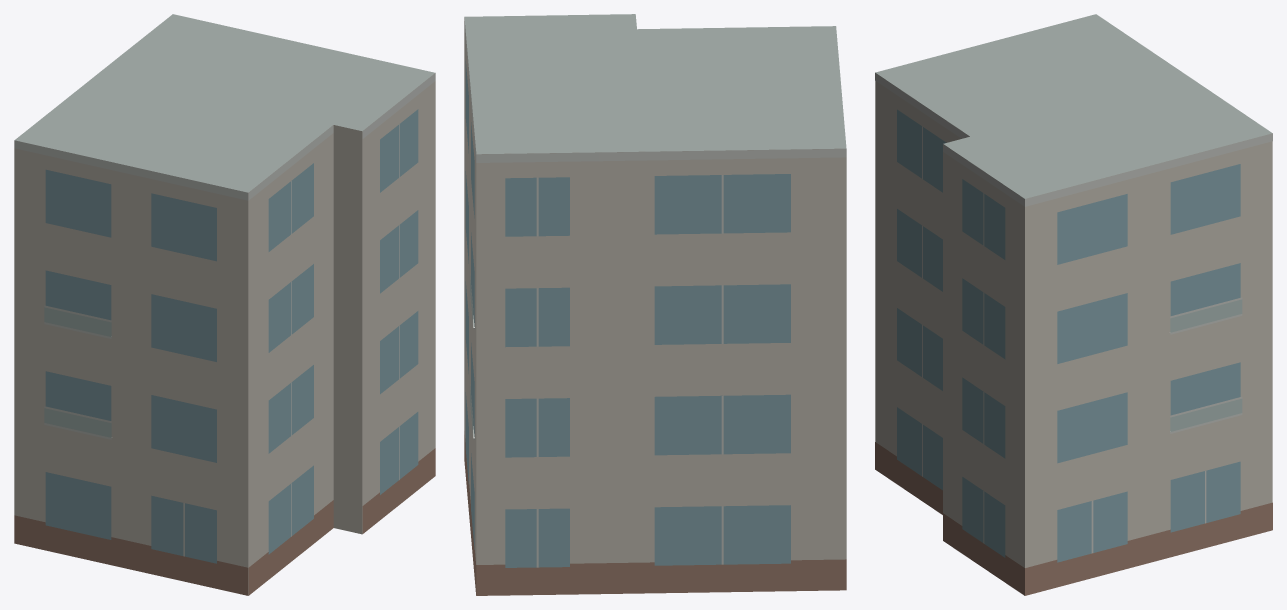
File: residential-4862574c-b037-4db8-811a-4e6bda92e44f.glb
3 views of the same model, side by side, from view 1: azimuth 30°, elevation 25°; view 2: azimuth 150°, elevation 25°; view 3: azimuth 270°, elevation 25° (orthographic). The views are drawn at different scales.
Parts seen in each view (by area): view 1: residential-4862574c-b037-4db8-811a-4e6bda92e44f.tmp; view 2: residential-4862574c-b037-4db8-811a-4e6bda92e44f.tmp; view 3: residential-4862574c-b037-4db8-811a-4e6bda92e44f.tmp.
Boxes of the visible parts, left/top/right/bottom form: residential-4862574c-b037-4db8-811a-4e6bda92e44f.tmp: left=14, top=14, right=435, bottom=595; residential-4862574c-b037-4db8-811a-4e6bda92e44f.tmp: left=464, top=14, right=846, bottom=595; residential-4862574c-b037-4db8-811a-4e6bda92e44f.tmp: left=875, top=14, right=1272, bottom=595.
Bounding box in the file's own units: 12.2 × 12.2 × 11.09.
